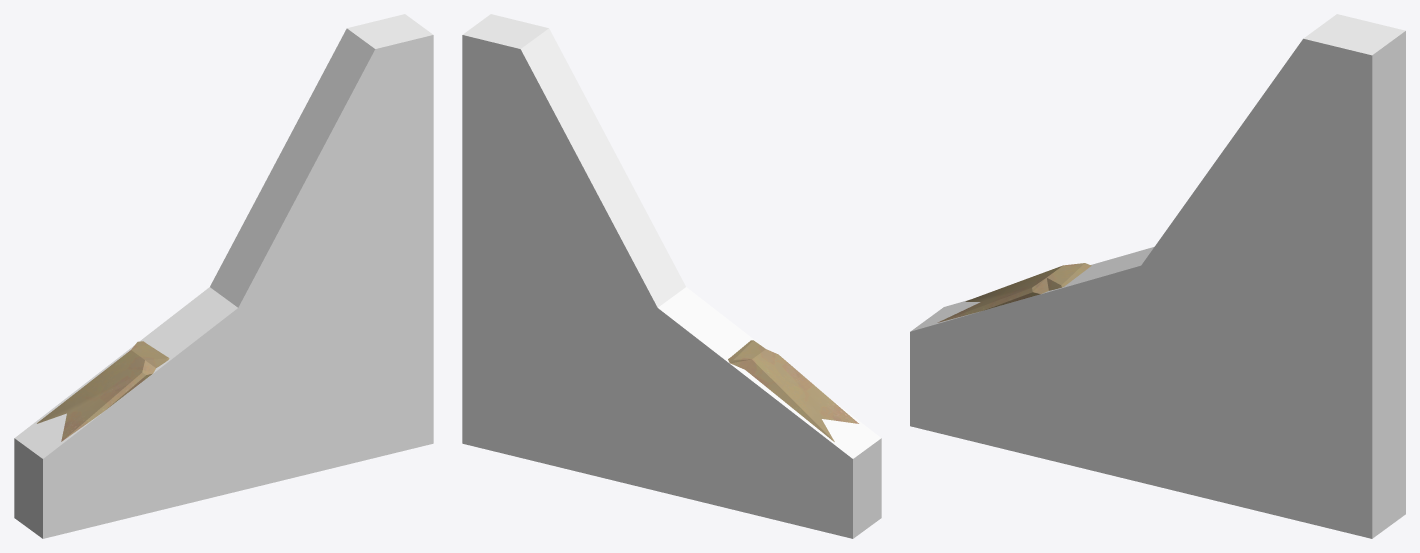
File: BrokenWall_Full_B_Mir.fbx
The picture shows the model from 3 angles, left to right: view 1: azimuth 30°, elevation 25°; view 2: azimuth 150°, elevation 25°; view 3: azimuth 330°, elevation 25°; orthographic projection. The views are drawn at different scales.
Visible parts, largest first — view 1: BrokenWall_B_Mir_COL, BrokenWall_B_Mir; view 2: BrokenWall_B_Mir_COL, BrokenWall_B_Mir; view 3: BrokenWall_B_Mir_COL, BrokenWall_B_Mir.
Boxes of the visible parts, x1=… form: BrokenWall_B_Mir_COL: x1=14, y1=14, x2=433, y2=538; BrokenWall_B_Mir: x1=37, y1=341, x2=169, y2=441; BrokenWall_B_Mir_COL: x1=462, y1=14, x2=881, y2=538; BrokenWall_B_Mir: x1=728, y1=340, x2=858, y2=441; BrokenWall_B_Mir_COL: x1=910, y1=14, x2=1405, y2=538; BrokenWall_B_Mir: x1=937, y1=263, x2=1091, y2=322.
Size of the model in its own units: 400 by 400 by 50.61.
